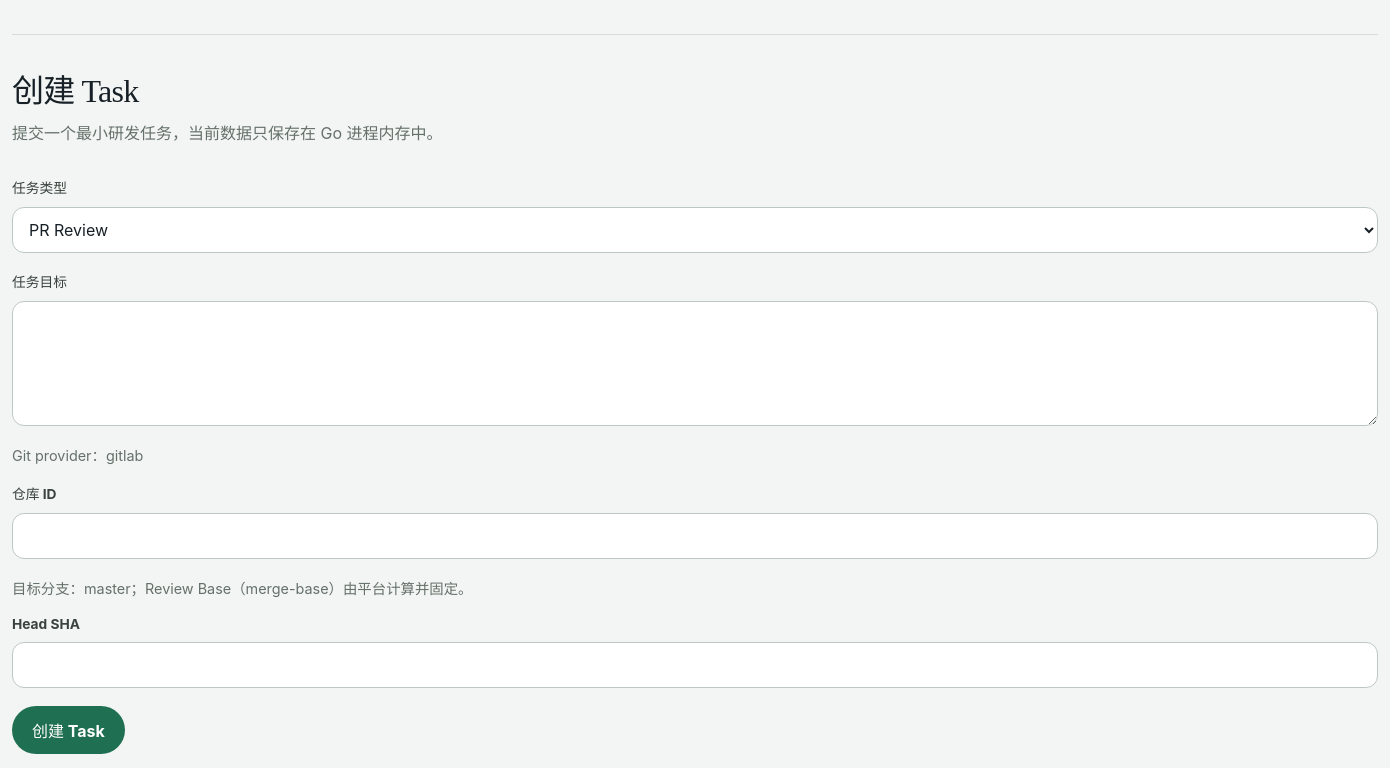
Test case: TaskCreator › prevents duplicate submissions while creation is in progress
Type "Review pull request 42" into the text box labelled "任务目标" at (695, 363), box [12,301,1378,426]
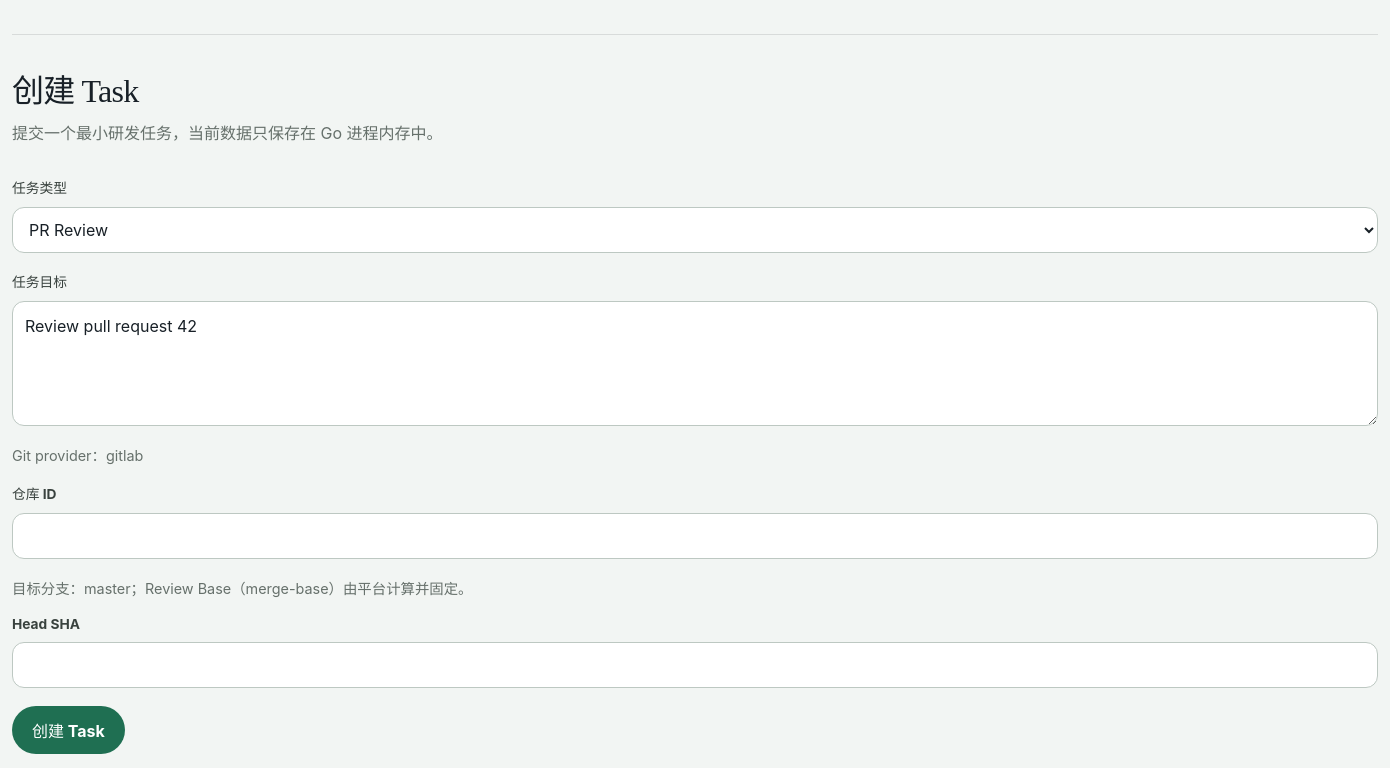
Type "platform/project-7" into the field labelled "仓库 ID" at (695, 536), box [12,513,1378,559]
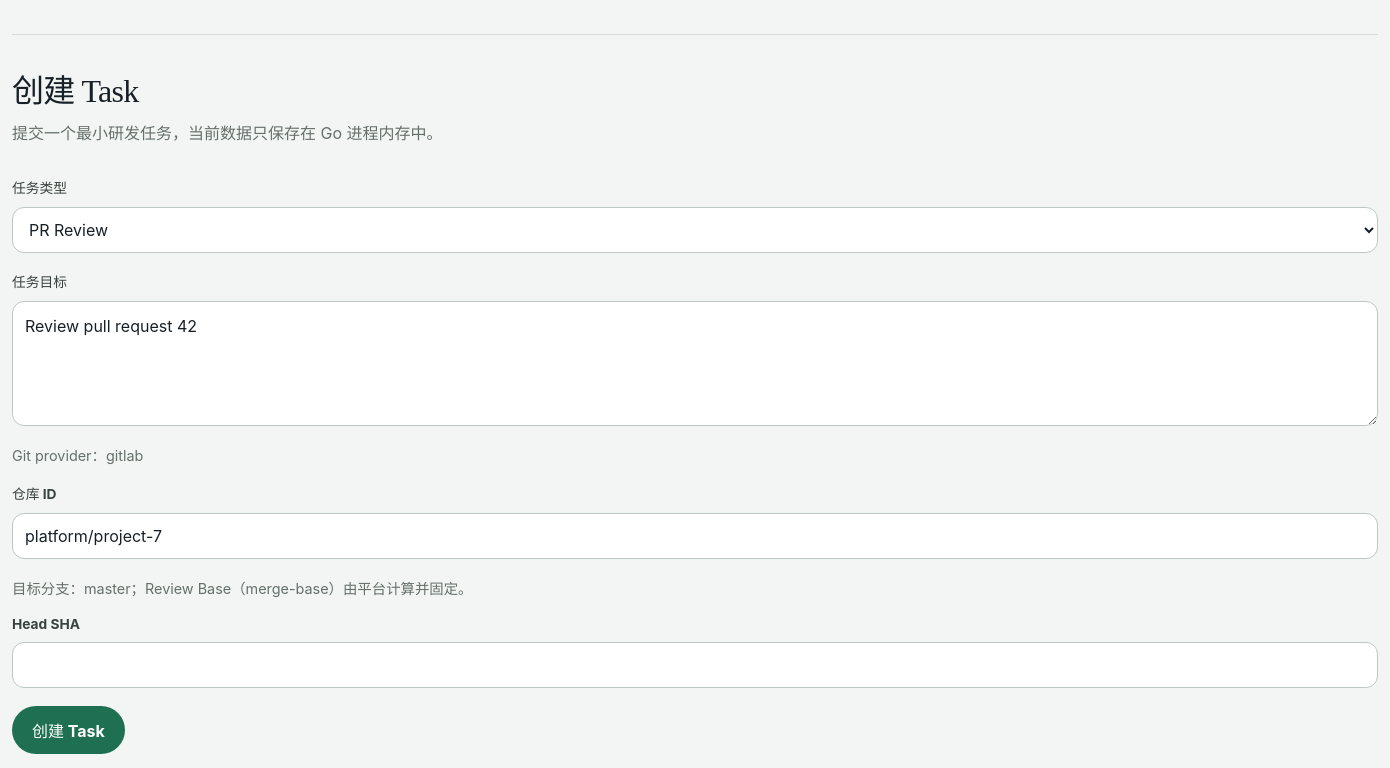
Type "2222222222222222222222222222222222222222" into the field labelled "Head SHA" at (695, 665), box [12,642,1378,688]
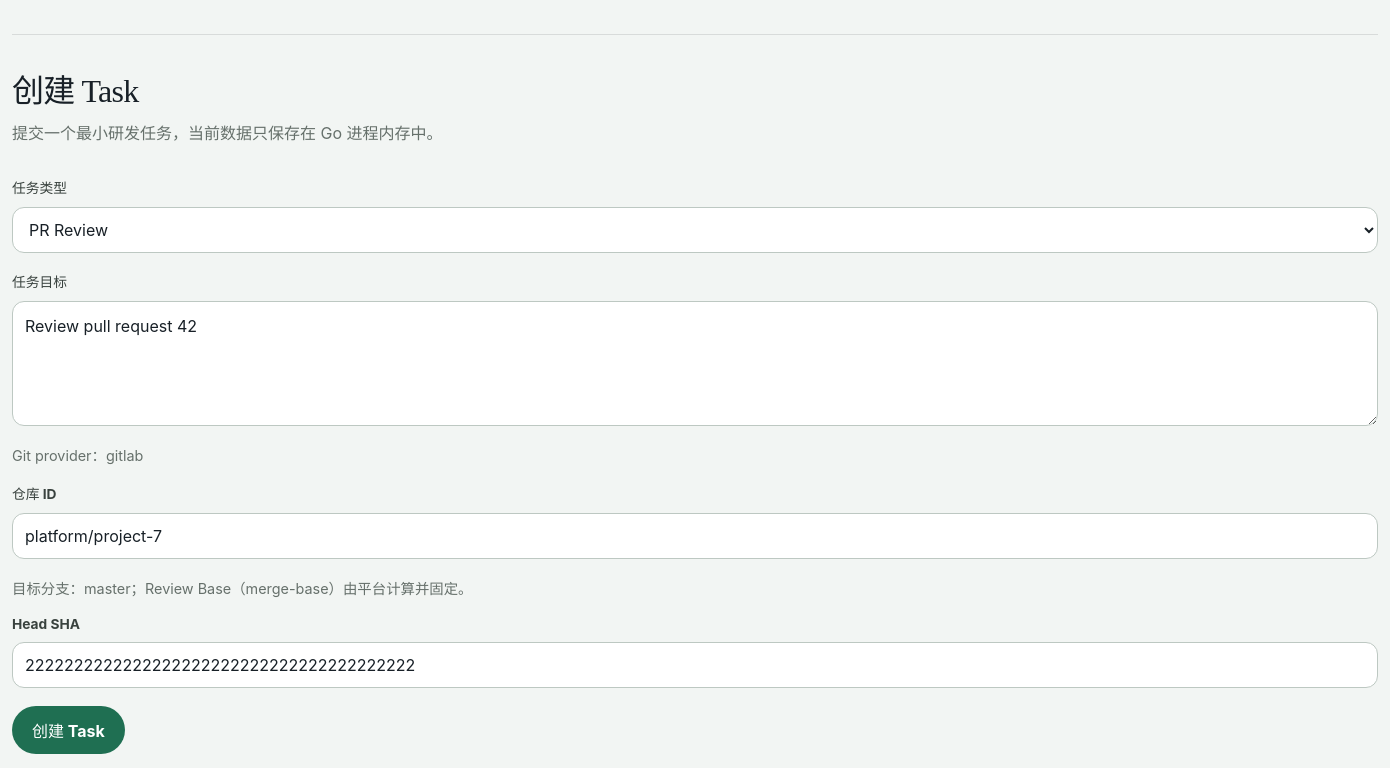
Click the button "创建 Task" at (68, 730), box [12,706,125,754]
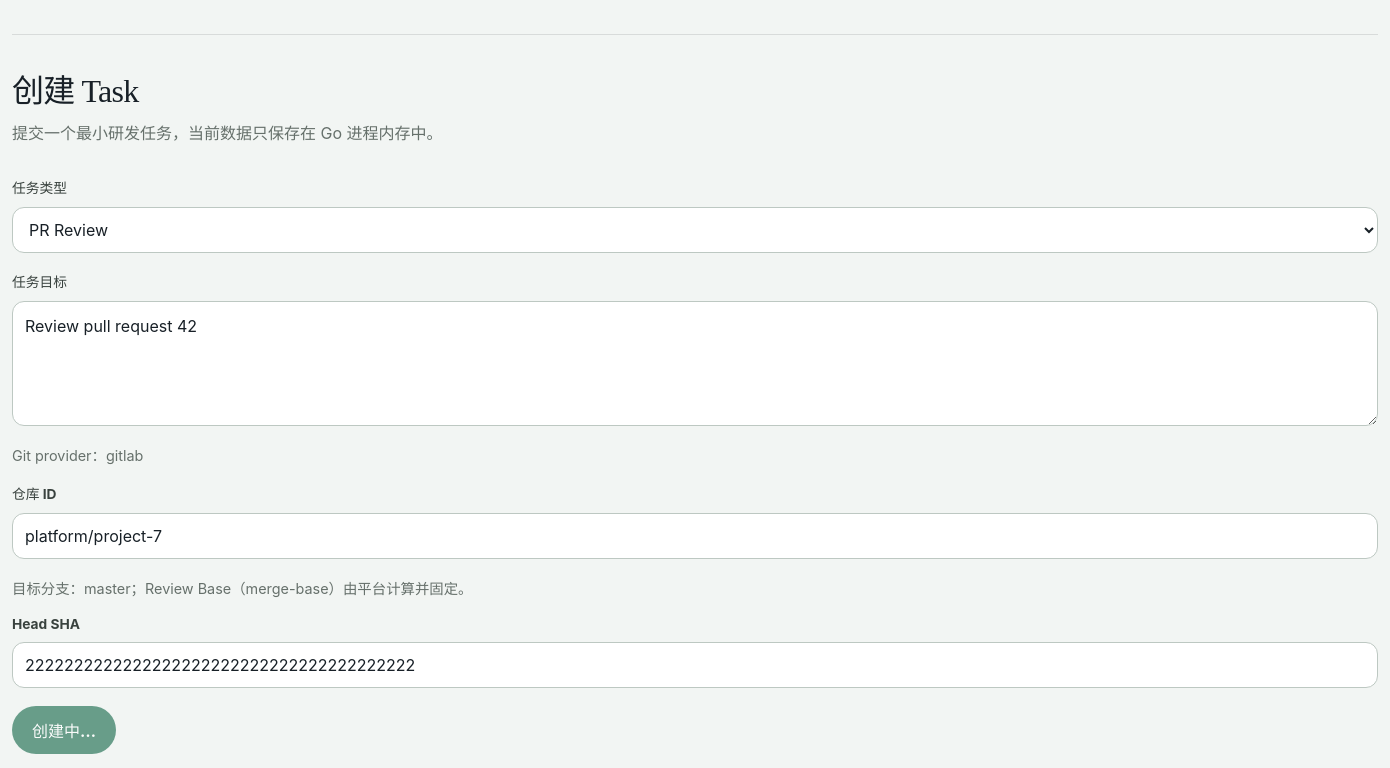
Expected: the button "创建中…" is disabled, [12,706,116,754]
